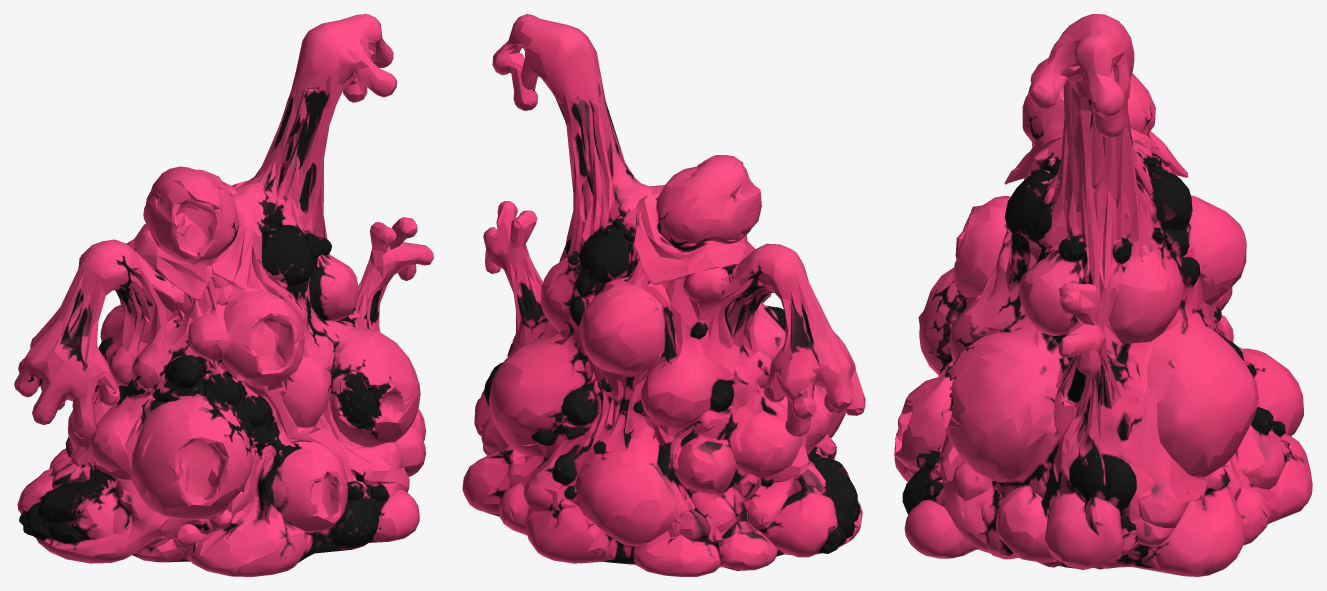
3 renders of one model, left to right at view 1: azimuth 30°, elevation 25°; view 2: azimuth 150°, elevation 25°; view 3: azimuth 270°, elevation 25°, orthographic. The views are drawn at different scales.
Size of the model in its own units: 1.71 by 1.9 by 1.34.
Materials: 1 (1 with a texture image).
